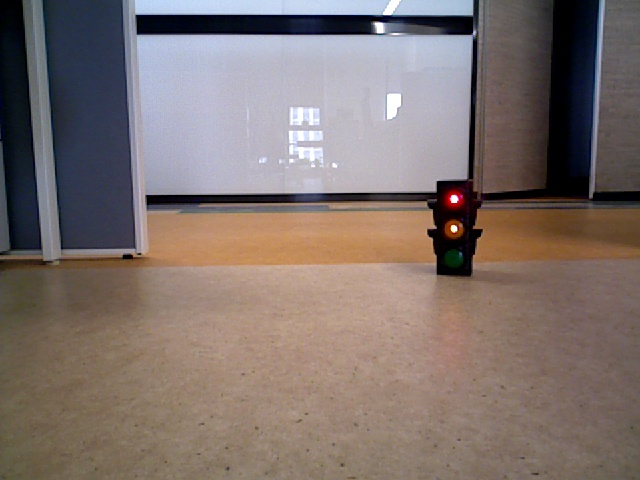red: (437, 182, 472, 271)
